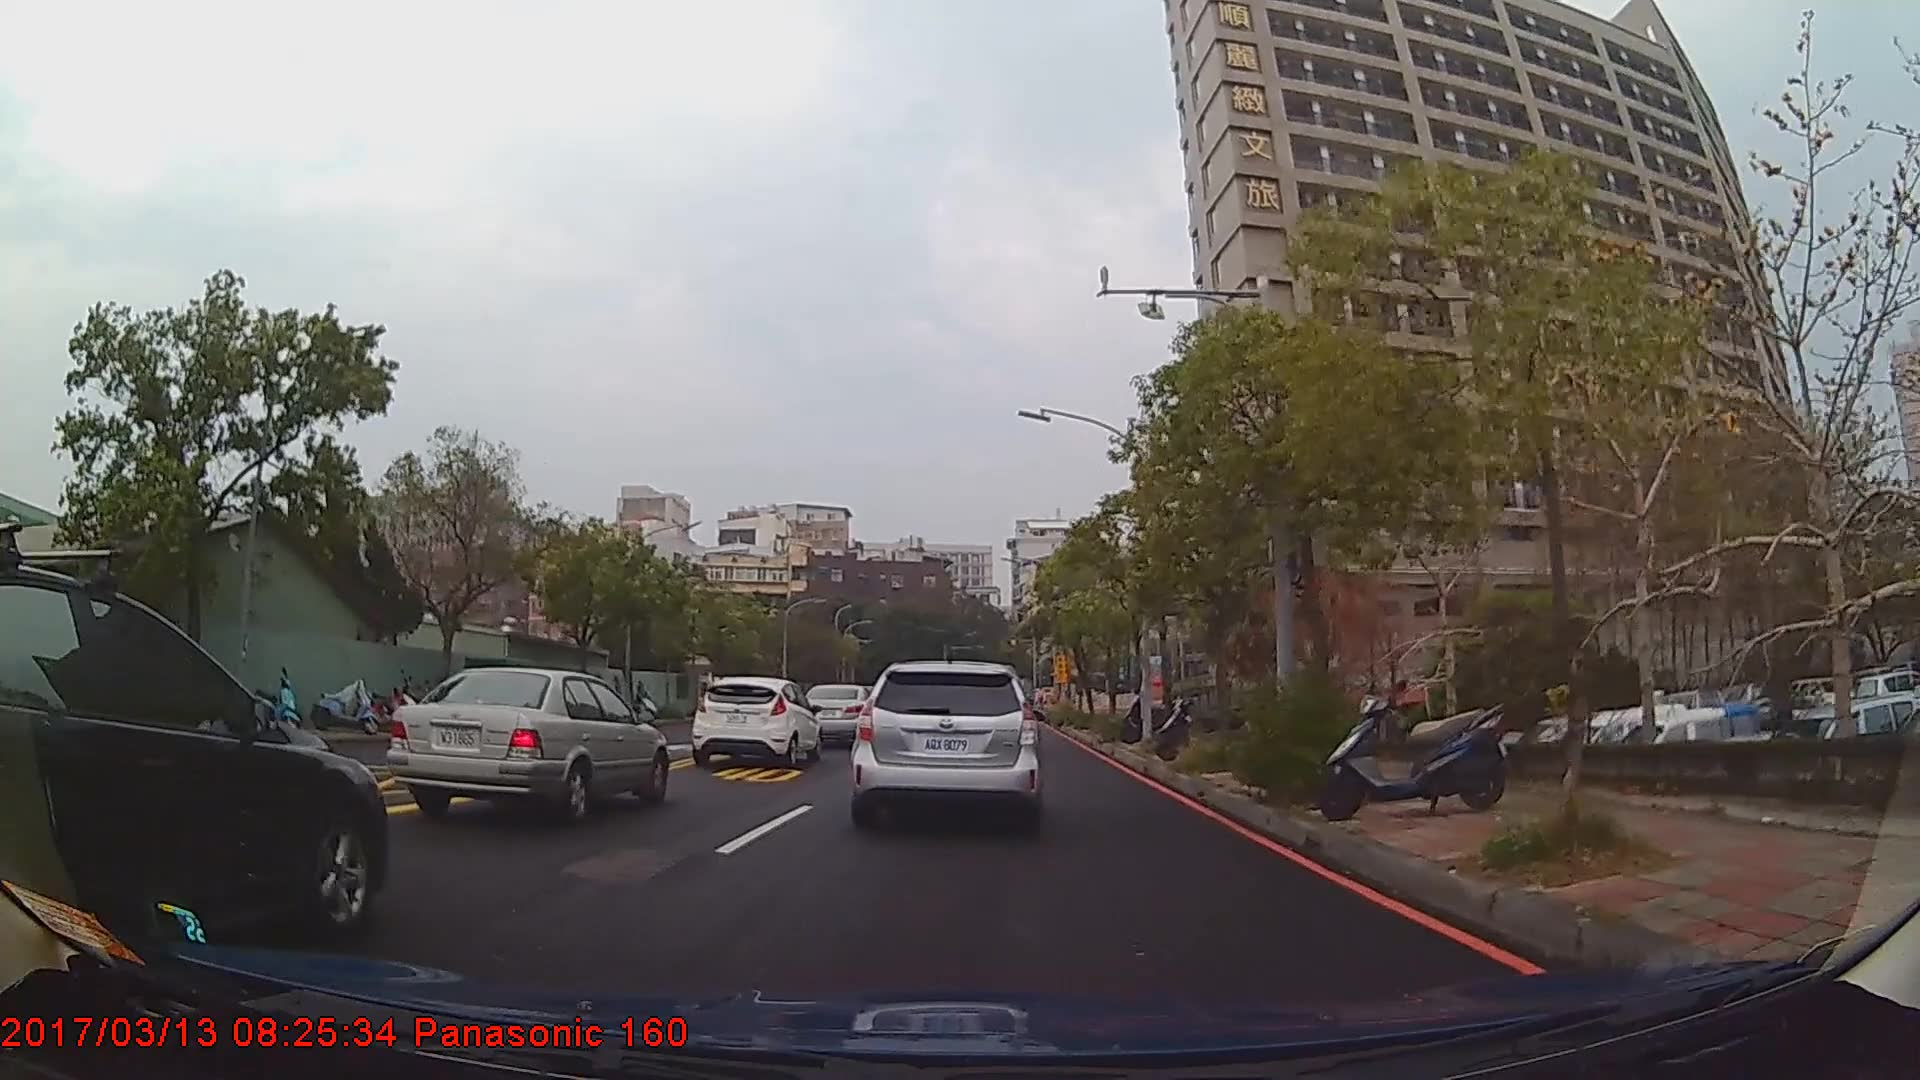vehicle: (0, 562, 388, 971), (385, 666, 669, 824), (848, 659, 1038, 827), (690, 675, 822, 767), (800, 683, 878, 745)
